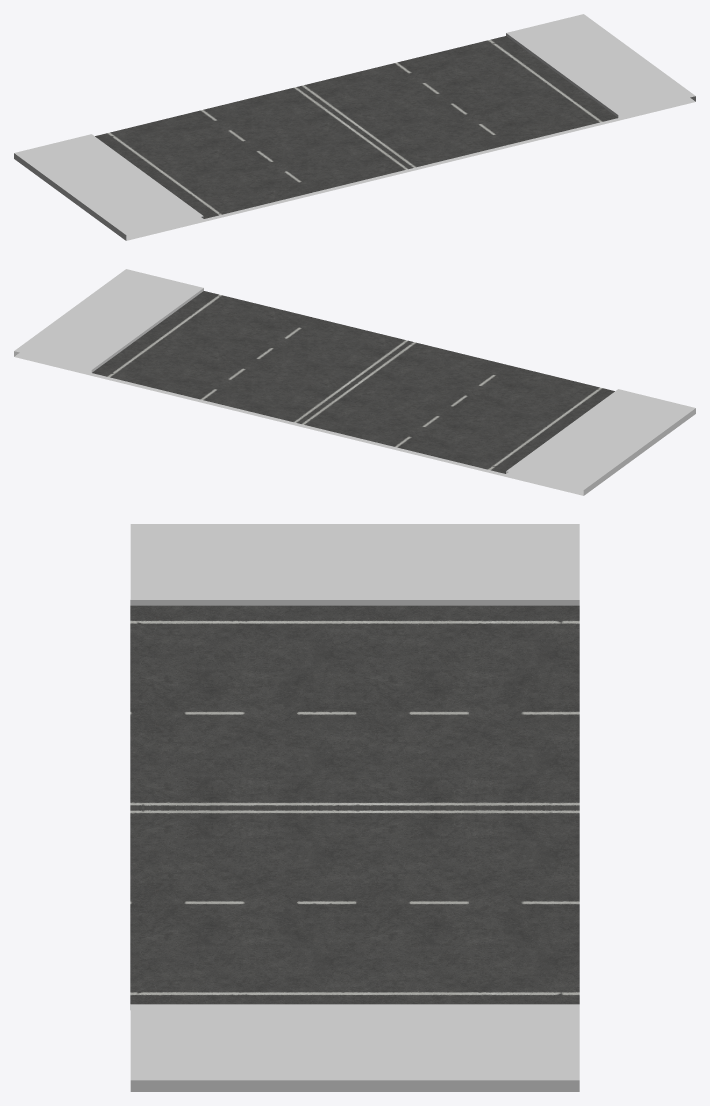
Rendered from Straight 6 Lane.fbx.
3 renders of one model, top to bottom at view 1: azimuth 30°, elevation 25°; view 2: azimuth 150°, elevation 25°; view 3: azimuth 270°, elevation 25°, orthographic. The views are drawn at different scales.
Parts seen in each view (by area): view 1: Plane; view 2: Plane; view 3: Plane.
Boxes of the visible parts, left/top/right/bottom form: Plane: left=14, top=14, right=695, bottom=240; Plane: left=14, top=269, right=695, bottom=495; Plane: left=130, top=524, right=579, bottom=1091.
Size of the model in its own units: 4103 by 40 by 1400.
